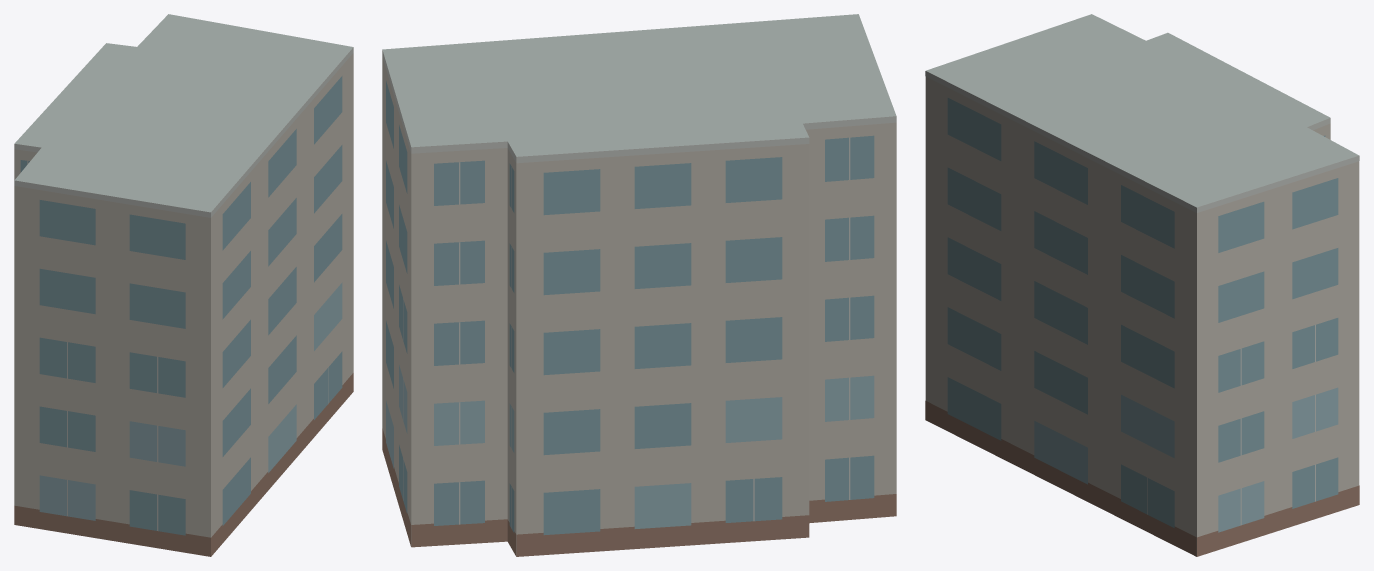
Rendered from survey-upis-32985714.glb.
3 renders of one model, left to right at view 1: azimuth 30°, elevation 25°; view 2: azimuth 150°, elevation 25°; view 3: azimuth 270°, elevation 25°, orthographic. The views are drawn at different scales.
Visible parts, largest first — view 1: survey-upis-32985714.tmp; view 2: survey-upis-32985714.tmp; view 3: survey-upis-32985714.tmp.
Part boxes in pixels (left/top/right/bottom): survey-upis-32985714.tmp: left=14, top=14, right=353, bottom=556; survey-upis-32985714.tmp: left=382, top=14, right=896, bottom=556; survey-upis-32985714.tmp: left=925, top=14, right=1359, bottom=556.
Size of the model in its own units: 18.13 by 15.25 by 17.18.
